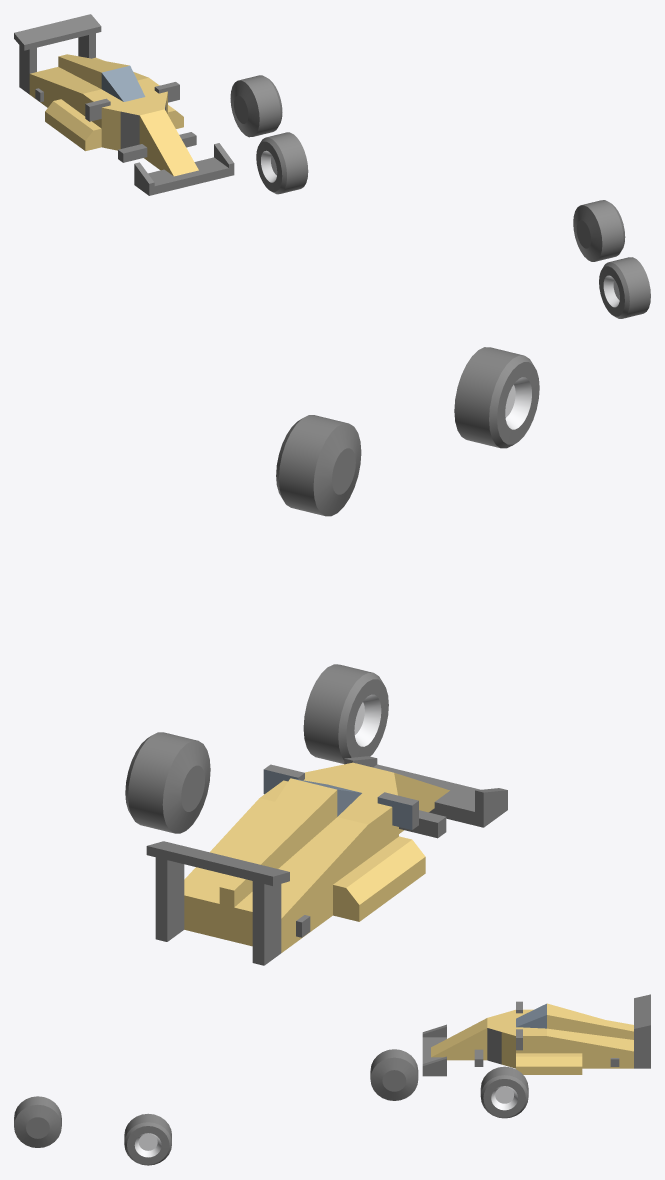
The model's file is raceCarOrange.glb.
3 renders of one model, top to bottom at view 1: azimuth 30°, elevation 25°; view 2: azimuth 150°, elevation 25°; view 3: azimuth 270°, elevation 25°, orthographic. The views are drawn at different scales.
Visible parts, largest first — view 1: body, wheelBackLeft, wheelFrontLeft, wheelBackRight, wheelFrontRight; view 2: body, wheelFrontLeft, wheelBackLeft, wheelFrontRight, wheelBackRight; view 3: body, wheelBackRight, wheelBackLeft, wheelFrontRight, wheelFrontLeft.
Part boxes in pixels (<box>): body: <box>14,14,234,195</box>; wheelBackLeft: <box>230,75,282,137</box>; wheelFrontLeft: <box>573,200,625,261</box>; wheelBackRight: <box>256,132,308,194</box>; wheelFrontRight: <box>599,257,650,318</box>; body: <box>146,756,507,965</box>; wheelFrontLeft: <box>276,415,361,516</box>; wheelBackLeft: <box>125,732,210,833</box>; wheelFrontRight: <box>454,347,539,448</box>; wheelBackRight: <box>303,664,388,763</box>; body: <box>422,994,650,1076</box>; wheelBackRight: <box>370,1049,418,1100</box>; wheelBackLeft: <box>480,1066,528,1118</box>; wheelFrontRight: <box>14,1096,61,1147</box>; wheelFrontLeft: <box>124,1113,171,1165</box>.
Size of the model in its own units: 1.69 by 0.387 by 3.75.
